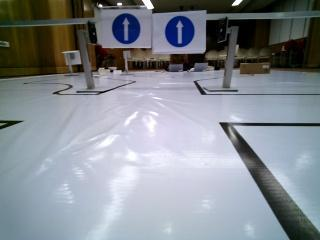straight: (151, 15, 205, 51), (104, 9, 151, 47)
